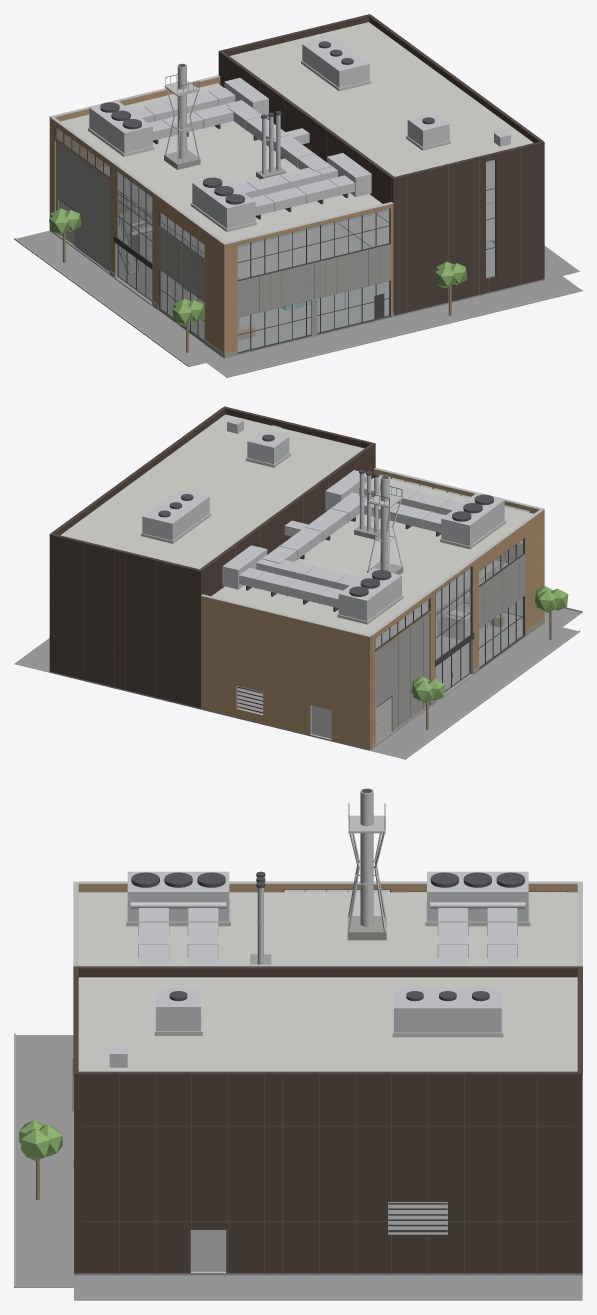
File: clay-energy-centre-clay-v008.glb
3 renders of one model, top to bottom at view 1: azimuth 30°, elevation 25°; view 2: azimuth 150°, elevation 25°; view 3: azimuth 270°, elevation 25°, orthographic. The views are drawn at different scales.
Visible parts, largest first — view 1: CLAY_MEMBRANE, CLAY_CORTEN, CLAY_FOUNDATION, CLAY_STEEL, CLAY_GLASS, CLAY_CONCRETE, CLAY_WALL, CLAY_FLOOR, CLAY_TRIM, CLAY_PALE, CLAY_HARDWARE, CLAY_PLANTING (+3 smaller); view 2: CLAY_MEMBRANE, CLAY_CORTEN, CLAY_WALL, CLAY_STEEL, CLAY_FOUNDATION, CLAY_CONCRETE, CLAY_GLASS, CLAY_PALE, CLAY_JOINT, CLAY_TRIM, CLAY_HARDWARE, CLAY_FLOOR (+2 smaller); view 3: CLAY_CORTEN, CLAY_MEMBRANE, CLAY_FOUNDATION, CLAY_STEEL, CLAY_PALE, CLAY_HARDWARE, CLAY_JOINT, CLAY_WALL, CLAY_PLANTING, CLAY_CONCRETE.
Boxes of the visible parts, x1,y1,x2,y2 form: CLAY_MEMBRANE: (60, 22, 533, 242); CLAY_CORTEN: (218, 14, 544, 315); CLAY_FOUNDATION: (16, 211, 580, 377); CLAY_STEEL: (89, 37, 510, 327); CLAY_GLASS: (56, 128, 494, 351); CLAY_CONCRETE: (51, 142, 393, 358); CLAY_WALL: (49, 77, 393, 356); CLAY_FLOOR: (98, 159, 494, 279); CLAY_TRIM: (54, 126, 495, 353); CLAY_PALE: (49, 60, 494, 274); CLAY_HARDWARE: (100, 41, 434, 282); CLAY_PLANTING: (49, 208, 467, 325); CLAY_MEMBRANE: (60, 414, 533, 634); CLAY_CORTEN: (49, 406, 375, 708); CLAY_WALL: (201, 469, 544, 749); CLAY_STEEL: (142, 417, 504, 640); CLAY_FOUNDATION: (14, 599, 581, 759); CLAY_CONCRETE: (354, 525, 544, 749); CLAY_GLASS: (272, 425, 529, 690); CLAY_PALE: (141, 453, 544, 742); CLAY_JOINT: (53, 478, 542, 747); CLAY_TRIM: (271, 424, 524, 707); CLAY_HARDWARE: (158, 434, 512, 713); CLAY_FLOOR: (211, 560, 507, 648); CLAY_CORTEN: (73, 966, 582, 1273); CLAY_MEMBRANE: (78, 892, 577, 1071); CLAY_FOUNDATION: (14, 1035, 582, 1300); CLAY_STEEL: (109, 788, 528, 1067); CLAY_PALE: (73, 815, 582, 1273); CLAY_HARDWARE: (131, 789, 524, 1231); CLAY_JOINT: (83, 1075, 573, 1272); CLAY_WALL: (78, 884, 577, 892); CLAY_PLANTING: (19, 1120, 62, 1160); CLAY_CONCRETE: (72, 916, 386, 1167).
Bounding box in the file's own units: 44.1 × 22 × 38.03.
